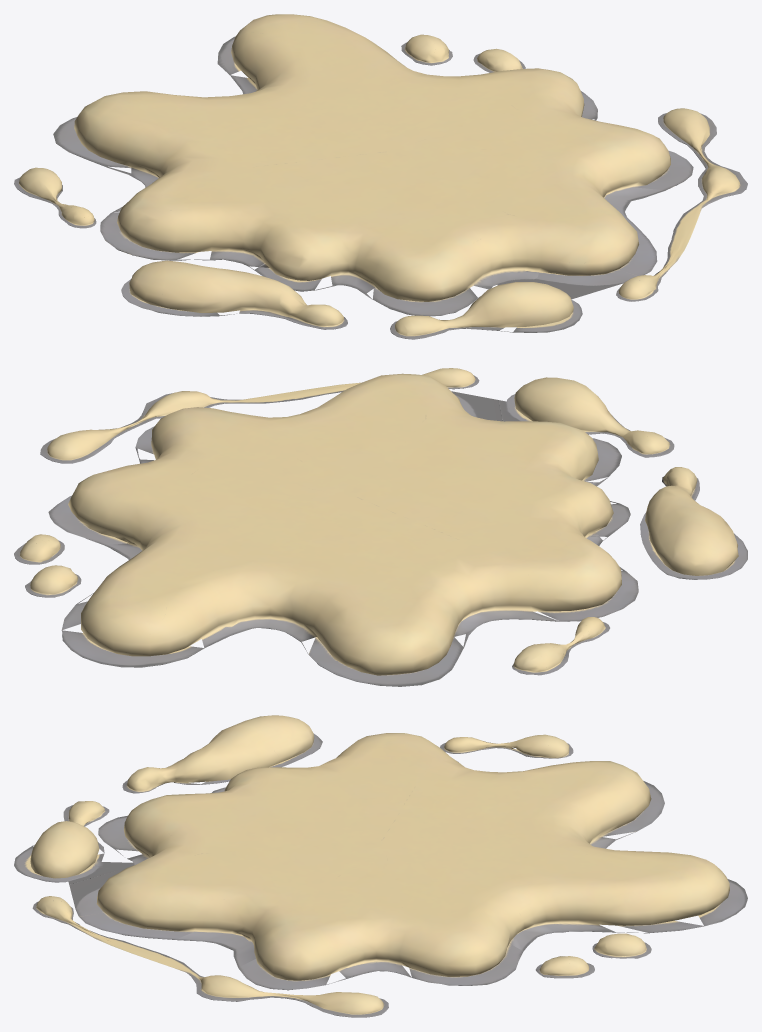
The model's file is puddle.glb.
The picture shows the model from 3 angles, top to bottom: view 1: azimuth 30°, elevation 25°; view 2: azimuth 150°, elevation 25°; view 3: azimuth 270°, elevation 25°; orthographic projection. The views are drawn at different scales.
Visible parts, largest first — view 1: geometry_0; view 2: geometry_0; view 3: geometry_0.
Boxes of the visible parts, x1,y1,x2,y2 form: geometry_0: [14, 14, 747, 339]; geometry_0: [14, 368, 747, 686]; geometry_0: [14, 715, 747, 1017].
Bounding box in the file's own units: 0.8994 × 0.0474 × 0.957.
Materials: 1 (1 with a texture image).
